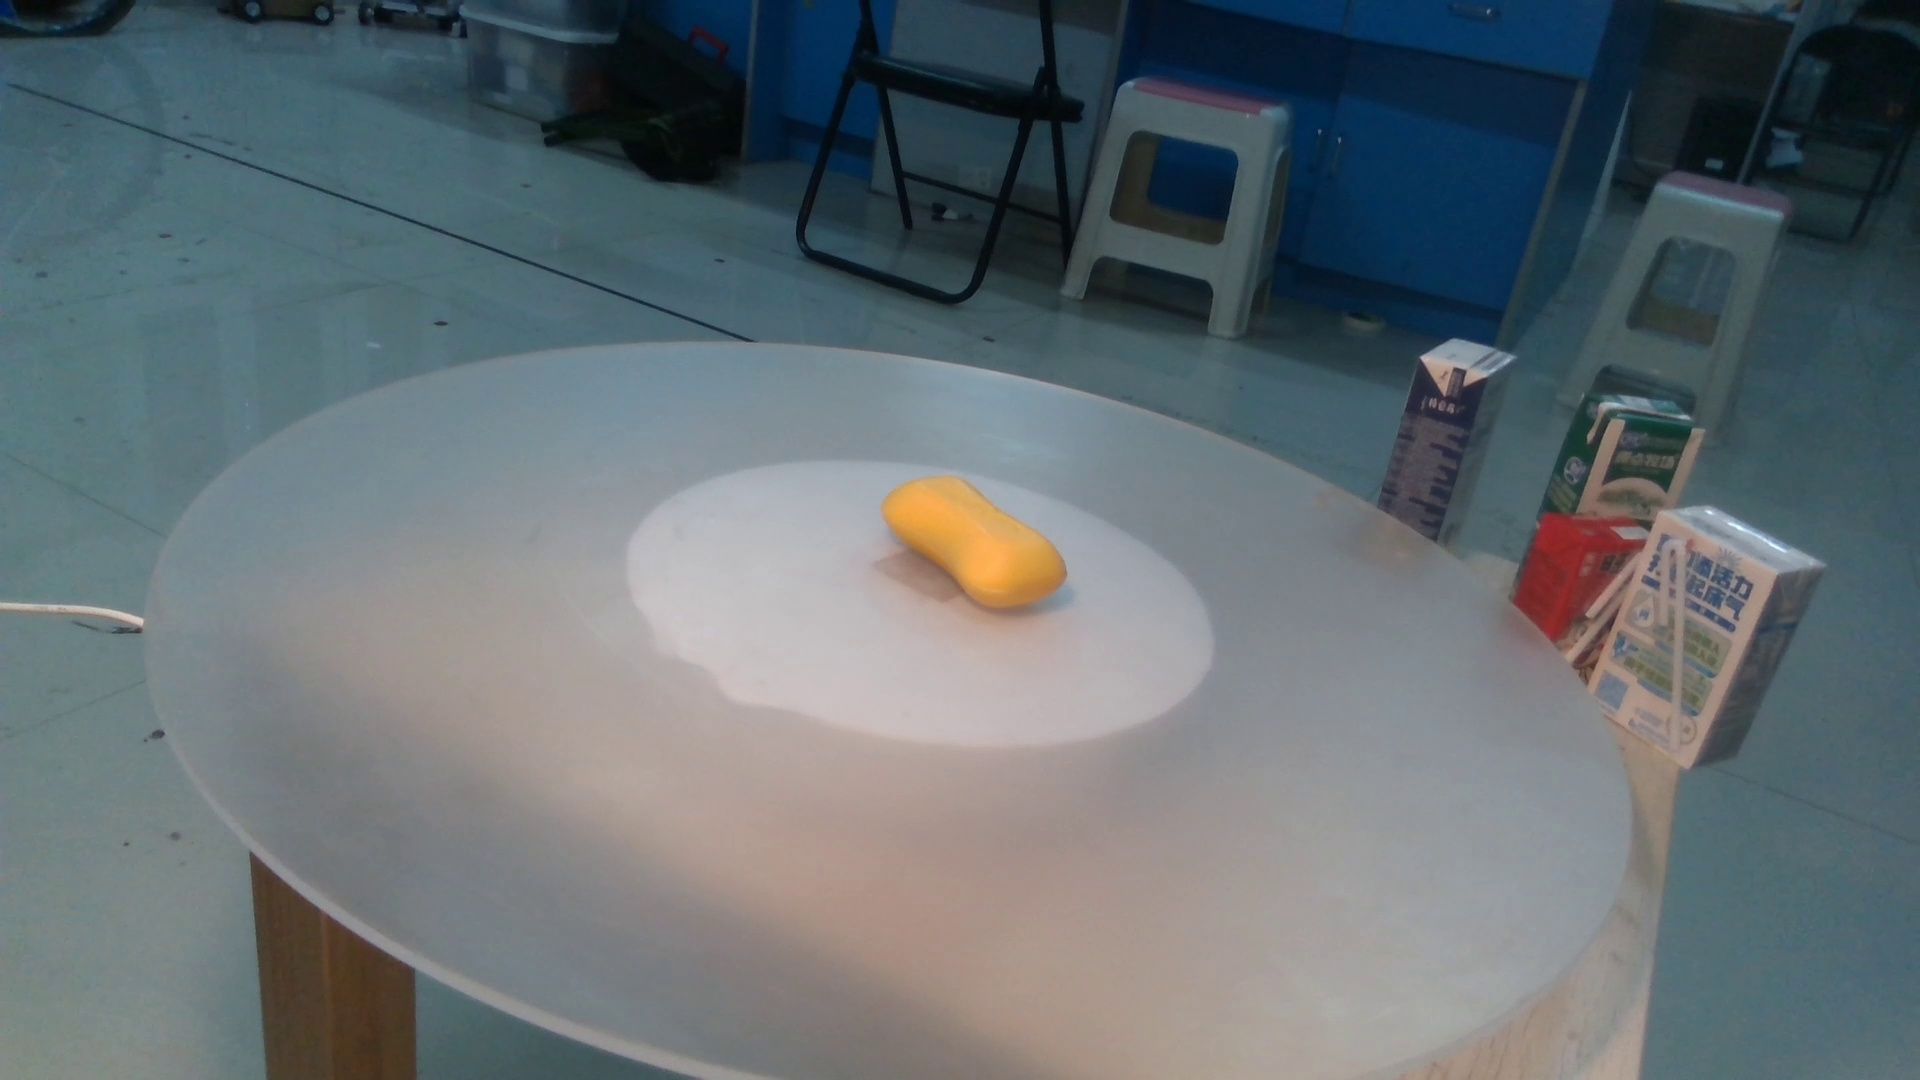CA003_1: (860, 448, 1106, 621)
